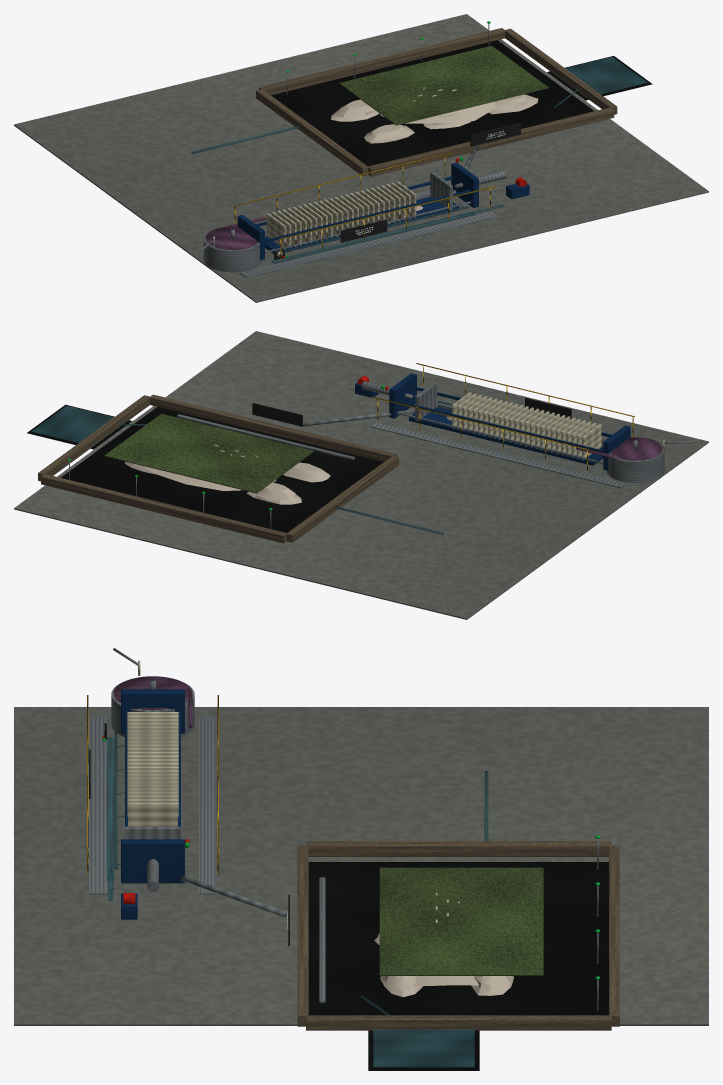
File: Level12_13_Tailing_IndustrialUV_BlenderRig_V3.fbx
The picture shows the model from 3 angles, top to bottom: view 1: azimuth 30°, elevation 25°; view 2: azimuth 150°, elevation 25°; view 3: azimuth 270°, elevation 25°; orthographic projection. The views are drawn at different scales.
Visible parts, largest first — view 1: GDS_ContainPad, GDS_Geomembrane, DryStack_SafeCover, GDS_Berm_North, GDS_Berm_South, GDS_PolishingPond_Liner, Safety_Walkway_Grating_Main, GDS_PolishPond_Water, GDS_Berm_West, GDS_Berm_East, Neutralization_Tank_Shell, Filtrate_Channel (+13 smaller); view 2: GDS_ContainPad, GDS_Geomembrane, DryStack_SafeCover, GDS_Berm_North, GDS_Berm_South, GDS_PolishingPond_Liner, Maintenance_Access_Platform_FilterPress, GDS_PolishPond_Water, GDS_Berm_West, GDS_Berm_East, Neutralization_Tank_Shell, FilterPress_Blue_Base_Frame (+13 smaller); view 3: GDS_ContainPad, GDS_Geomembrane, DryStack_SafeCover, GDS_Berm_East, GDS_Berm_West, GDS_PolishingPond_Liner, GDS_PolishPond_Water, Safety_Walkway_Grating_Main, Maintenance_Access_Platform_FilterPress, FilterPress_End_Frame_Hydraulic, GDS_Berm_South, GDS_Berm_North (+11 smaller).
Part boxes in pixels (bbox=[...]): GDS_ContainPad: bbox=[14, 14, 708, 302]; GDS_Geomembrane: bbox=[271, 40, 594, 166]; DryStack_SafeCover: bbox=[339, 45, 548, 125]; GDS_Berm_North: bbox=[259, 28, 505, 95]; GDS_Berm_South: bbox=[368, 107, 614, 176]; GDS_PolishingPond_Liner: bbox=[547, 56, 652, 100]; Safety_Walkway_Grating_Main: bbox=[240, 211, 498, 278]; GDS_PolishPond_Water: bbox=[551, 56, 647, 97]; GDS_Berm_West: bbox=[256, 89, 368, 176]; GDS_Berm_East: bbox=[505, 28, 617, 114]; Neutralization_Tank_Shell: bbox=[203, 231, 261, 272]; Filtrate_Channel: bbox=[271, 211, 475, 263]; GDS_ContainPad: bbox=[14, 331, 708, 619]; GDS_Geomembrane: bbox=[61, 407, 383, 532]; DryStack_SafeCover: bbox=[104, 413, 313, 493]; GDS_Berm_North: bbox=[41, 474, 286, 543]; GDS_Berm_South: bbox=[150, 394, 396, 461]; GDS_PolishingPond_Liner: bbox=[27, 404, 132, 449]; Maintenance_Access_Platform_FilterPress: bbox=[370, 422, 627, 488]; GDS_PolishPond_Water: bbox=[31, 405, 127, 446]; GDS_Berm_West: bbox=[287, 456, 398, 542]; GDS_Berm_East: bbox=[38, 395, 149, 481]; Neutralization_Tank_Shell: bbox=[606, 441, 664, 482]; FilterPress_Blue_Base_Frame: bbox=[409, 407, 603, 465]; GDS_ContainPad: bbox=[14, 707, 708, 1025]; GDS_Geomembrane: bbox=[308, 862, 608, 1015]; DryStack_SafeCover: bbox=[379, 867, 543, 975]; GDS_Berm_East: bbox=[306, 1015, 611, 1030]; GDS_Berm_West: bbox=[306, 841, 611, 856]; GDS_PolishingPond_Liner: bbox=[368, 1030, 479, 1070]; GDS_PolishPond_Water: bbox=[373, 1029, 474, 1067]; Safety_Walkway_Grating_Main: bbox=[89, 717, 108, 894]; Maintenance_Access_Platform_FilterPress: bbox=[199, 717, 215, 894]; FilterPress_End_Frame_Hydraulic: bbox=[121, 839, 184, 883]; GDS_Berm_South: bbox=[297, 845, 308, 1026]; GDS_Berm_North: bbox=[609, 845, 619, 1026].
Bounding box in the file's own units: 6455 × 419 × 5000.
Materials: 18 (14 with a texture image).
